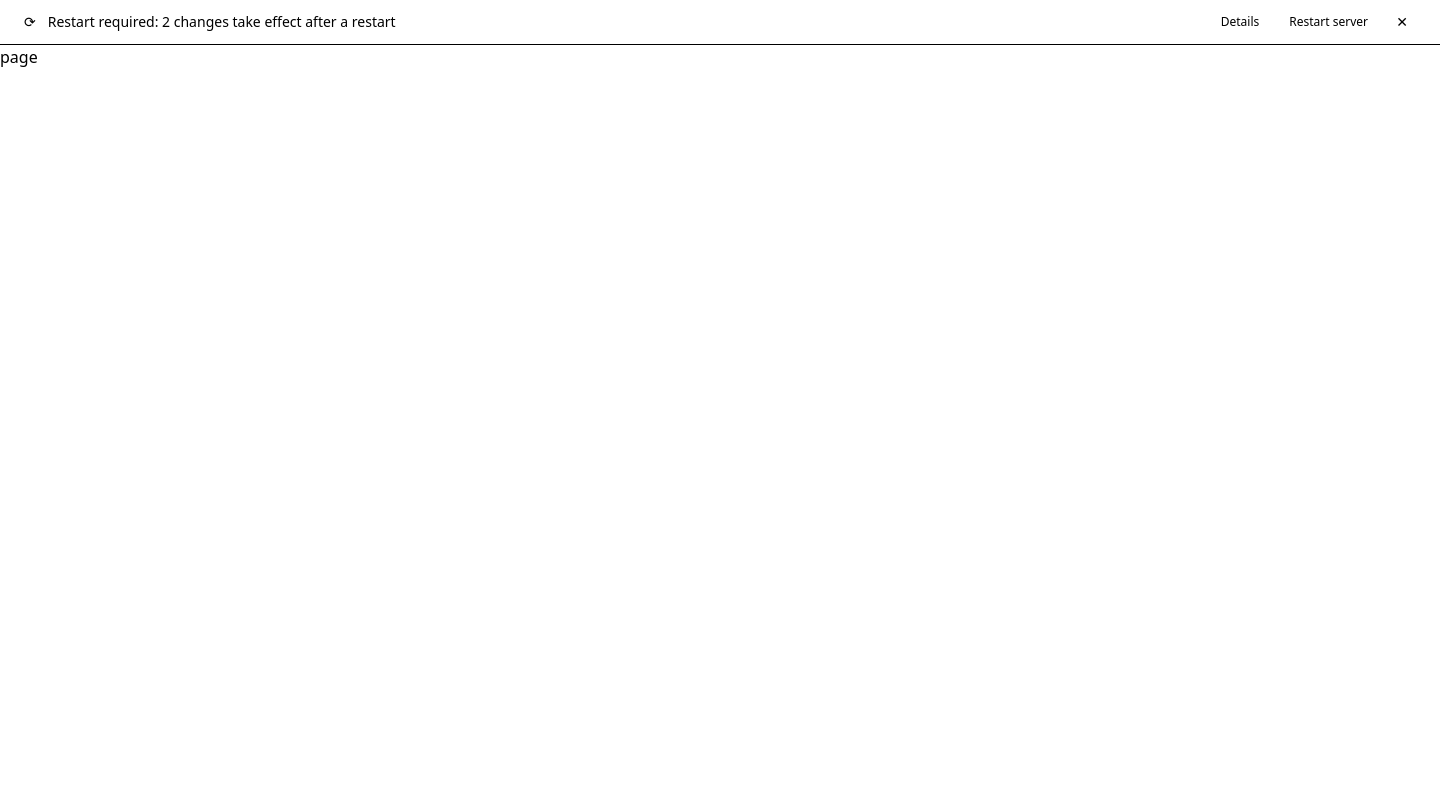
Test: Restarting the server › confirms with the pending changes and an optional reason, posts it and shows the overlay
Click the button "Restart server" at {"x": 1329, "y": 22}, box [1277, 10, 1380, 34]
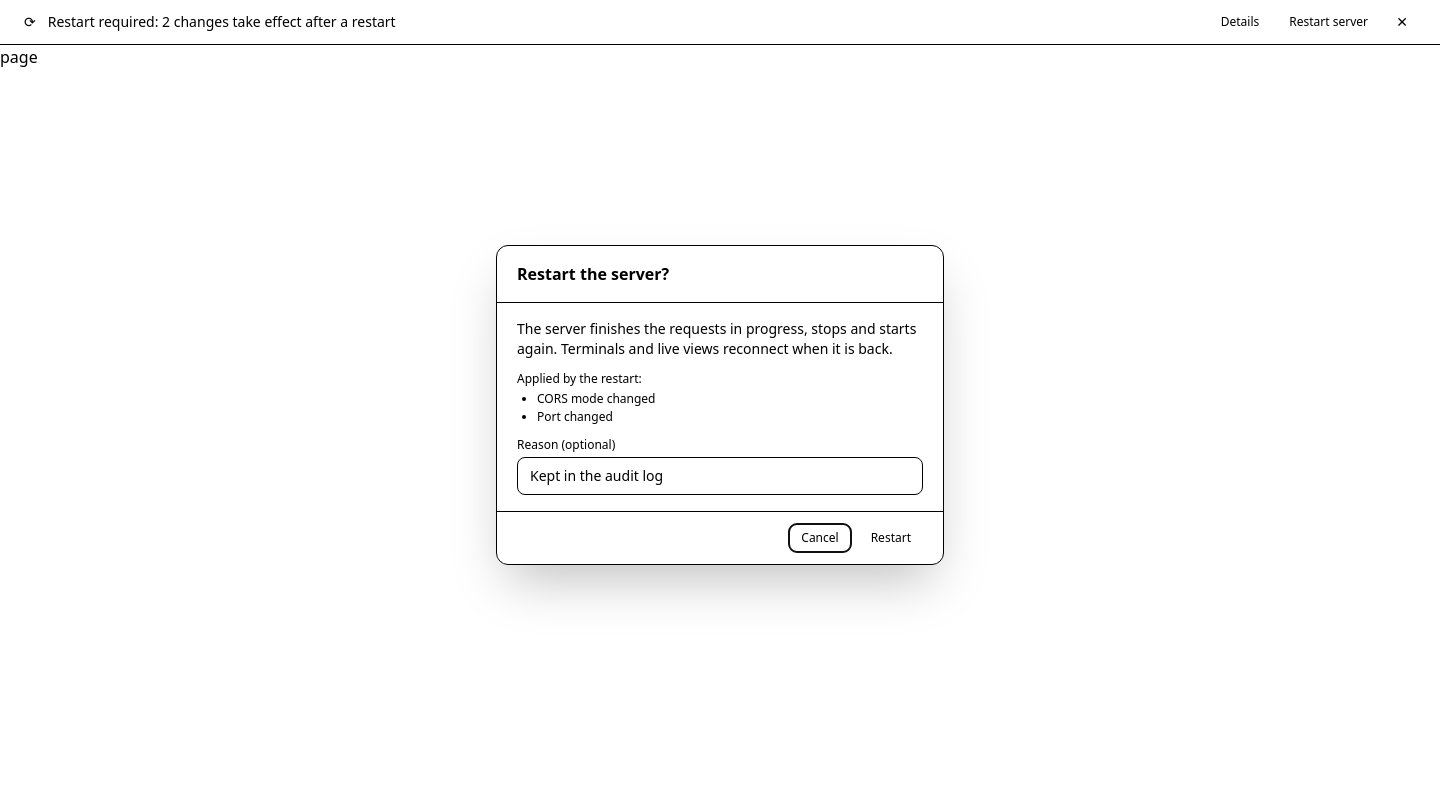
Expected: the list item "CORS mode changed" is shown, [537, 390, 656, 407]
Expected: the list item "Port changed" is shown, [537, 408, 613, 425]
Type "apply CORS" into the field labelled "Reason (optional)" at {"x": 720, "y": 476}, box [517, 457, 923, 495]
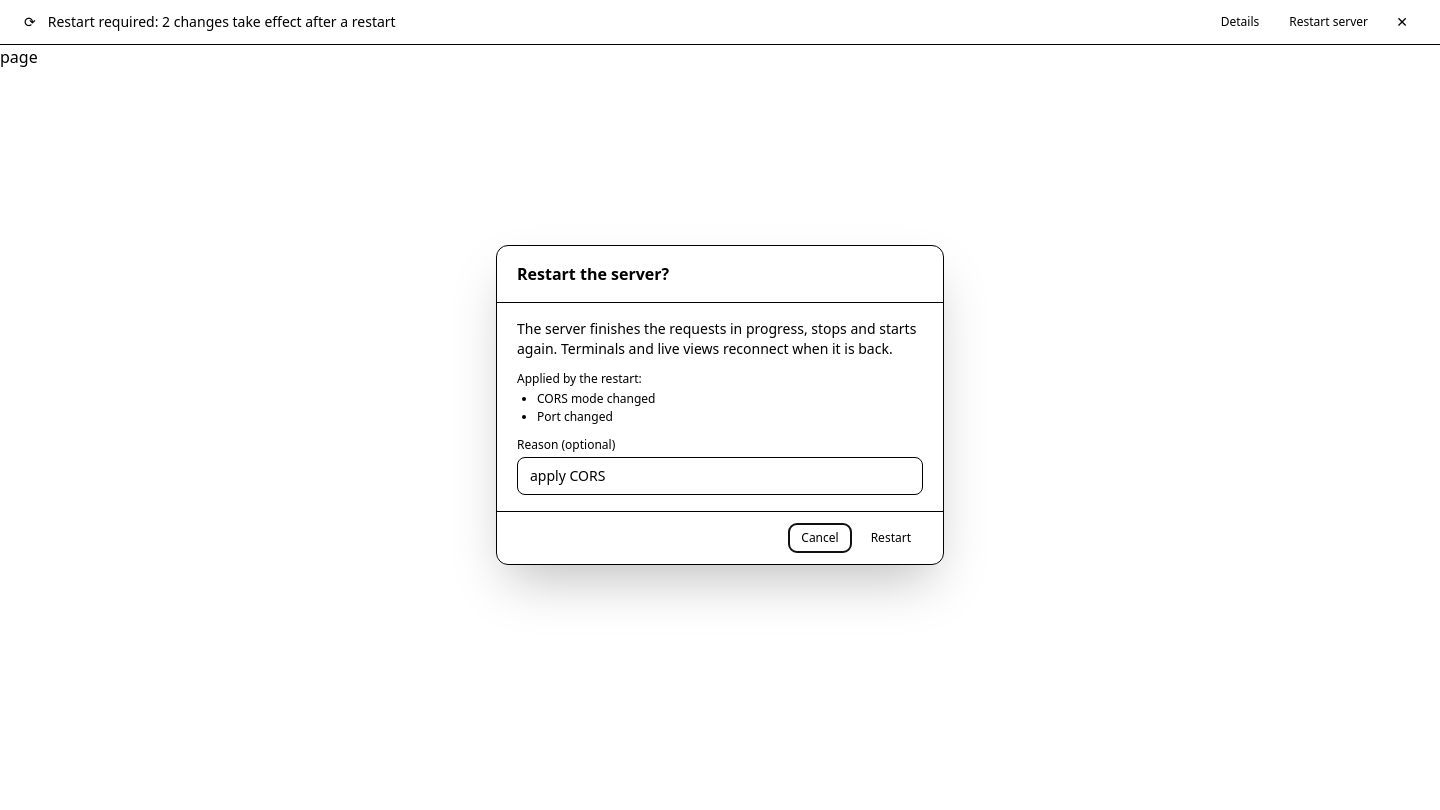
Click the button "Restart" at {"x": 891, "y": 538}, box [859, 524, 923, 552]
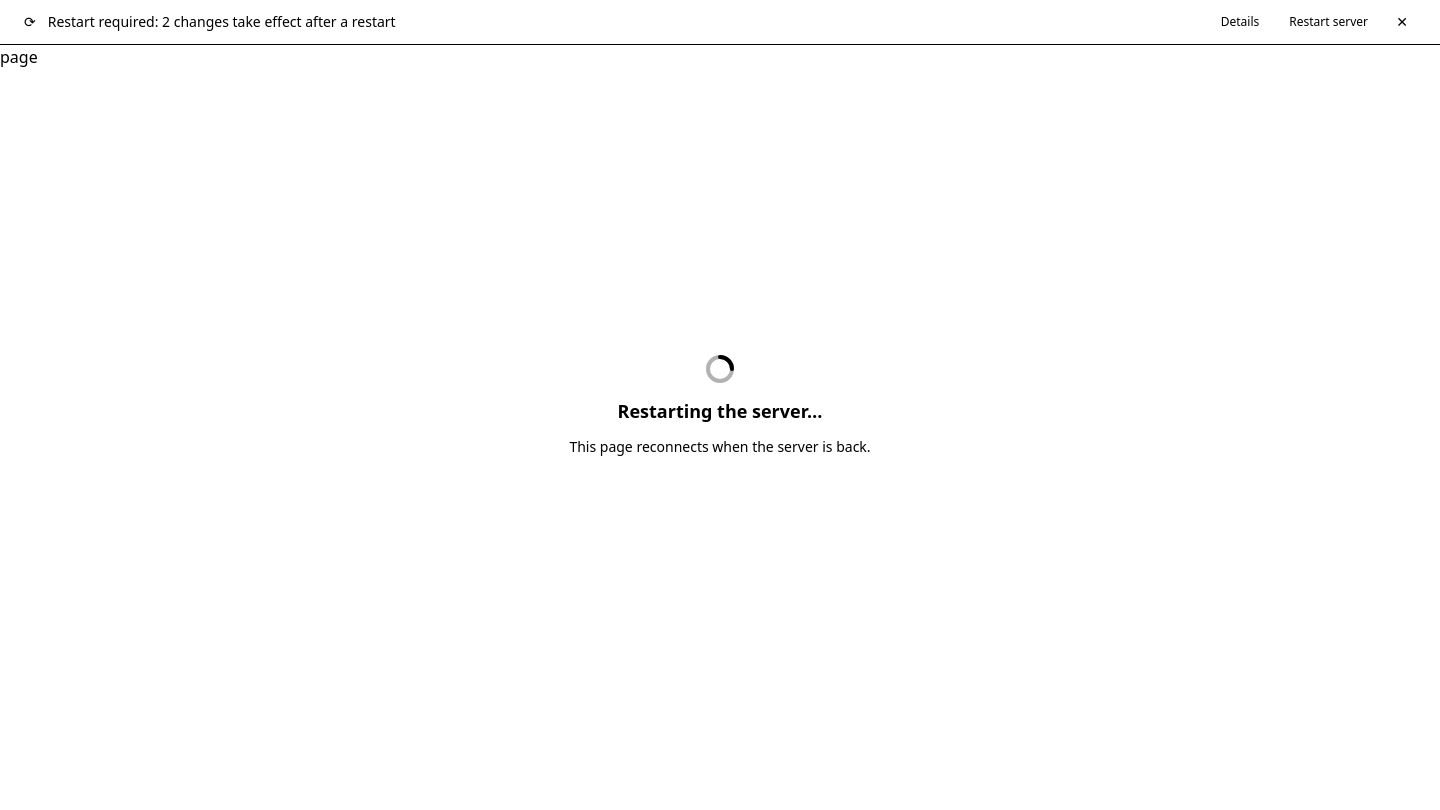
Expected: the heading "Restarting the server…" is shown, [618, 399, 822, 423]
